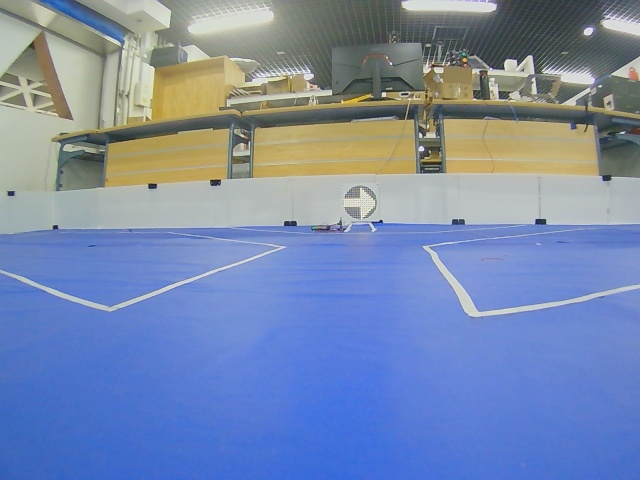right_yellow: (343, 186, 378, 221)
